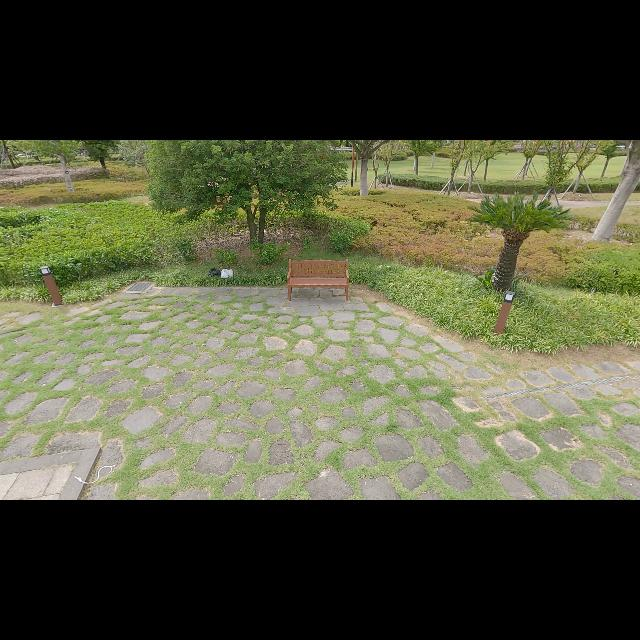trash: (208, 266, 220, 280), (226, 268, 236, 280), (222, 269, 228, 279)
